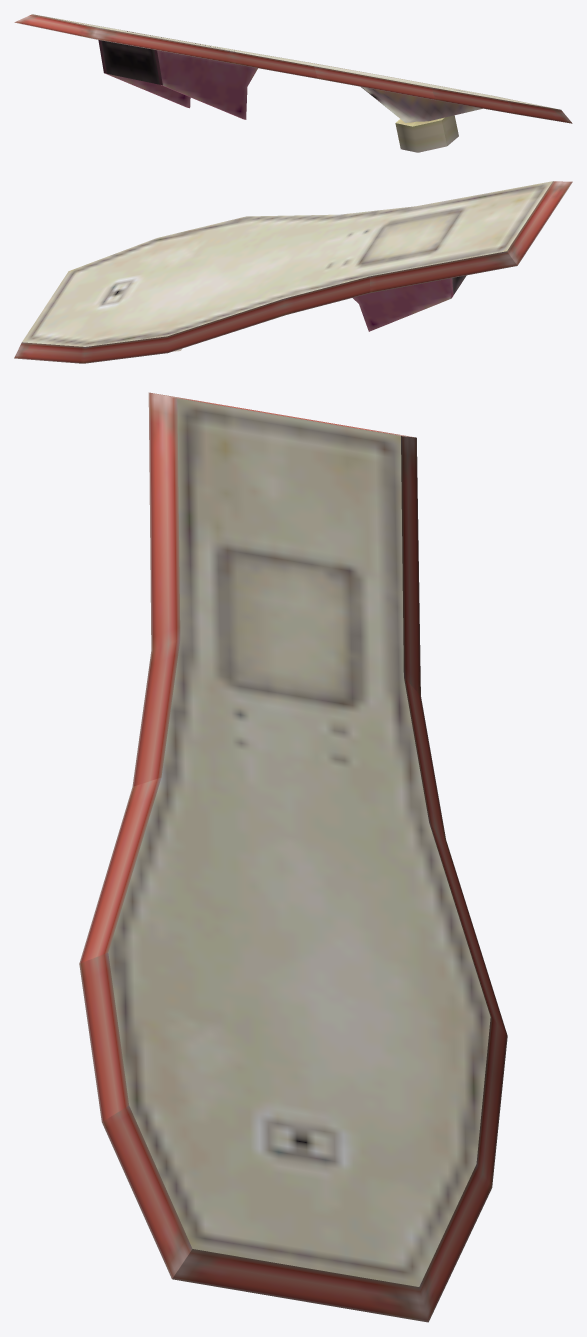
The model's file is eureka_us_del.ico.obj.
The picture shows the model from 3 angles, top to bottom: view 1: azimuth 30°, elevation 25°; view 2: azimuth 150°, elevation 25°; view 3: azimuth 270°, elevation 25°; orthographic projection. The views are drawn at different scales.
Bounding box in the file's own units: 4.56 × 2.08 × 1.7.
1 material, 1 textured.
